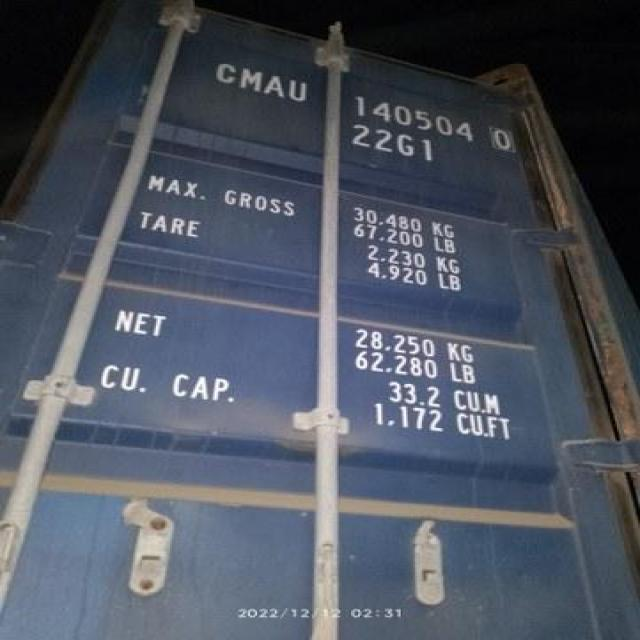container_number_h: (194, 32, 563, 184)
